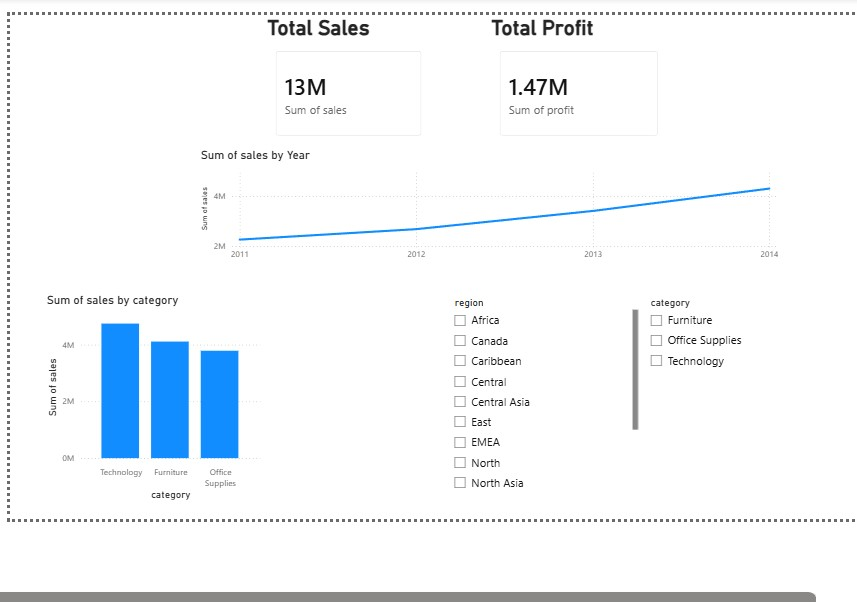

The page's visual inventory and layout, read from the dashboard file:
{"tool":"powerbi","page":{"name":"Page 1","canvas":[1280,720],"ordinal":0},"visuals":[{"type":"cardVisual","title":"Total Sales","fields":{"Data":["Sum(SuperStoreOrders.sales)"]},"box":[362.5,0,242.5,190],"z":0},{"type":"cardVisual","title":"Total Profit","fields":{"Data":["Sum(SuperStoreOrders.profit)"]},"box":[682.5,0,260,190],"z":1000},{"type":"lineChart","fields":{"Category":["SuperStoreOrders.order_date.Variation.Date Hierarchy.Year","SuperStoreOrders.order_date.Variation.Date Hierarchy.Quarter","SuperStoreOrders.order_date.Variation.Date Hierarchy.Month","SuperStoreOrders.order_date.Variation.Date Hierarchy.Day"],"Y":["Sum(SuperStoreOrders.sales)"]},"box":[267.5,190,835,170],"z":2000},{"type":"clusteredColumnChart","fields":{"Category":["SuperStoreOrders.category"],"Y":["Sum(SuperStoreOrders.sales)"]},"box":[47.5,397.5,315,300],"z":3000},{"type":"slicer","fields":{"Values":["SuperStoreOrders.region"]},"box":[622.5,397.5,280,282.5],"z":3001},{"type":"slicer","fields":{"Values":["SuperStoreOrders.category"]},"box":[902.5,397.5,280,300],"z":3002}]}

Visuals, with their boxes on the page's 1280x720 design canvas (x1, y1, x2, y2). These are canvas units, not pixel positions in the 857x602 screenshot, which may show the page scaled, cropped or inside an application window:
"Total Sales" cardVisual: x1=362, y1=0, x2=605, y2=190
"Total Profit" cardVisual: x1=682, y1=0, x2=942, y2=190
lineChart - SuperStoreOrders.order_date.Variation.Date Hierarchy.Year x SuperStoreOrders.order_date.Variation.Date Hierarchy.Quarter: x1=268, y1=190, x2=1102, y2=360
clusteredColumnChart - SuperStoreOrders.category x Sum(SuperStoreOrders.sales): x1=48, y1=398, x2=362, y2=698
slicer - SuperStoreOrders.region: x1=622, y1=398, x2=902, y2=680
slicer - SuperStoreOrders.category: x1=902, y1=398, x2=1182, y2=698
